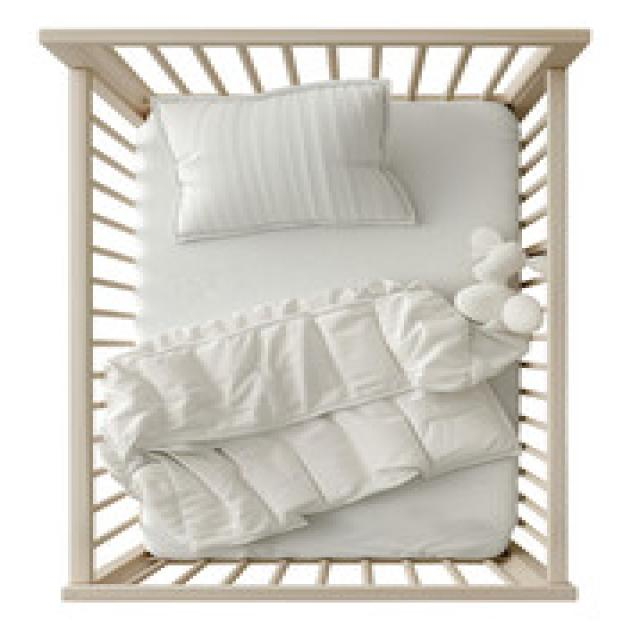crib: (36, 24, 586, 603)
